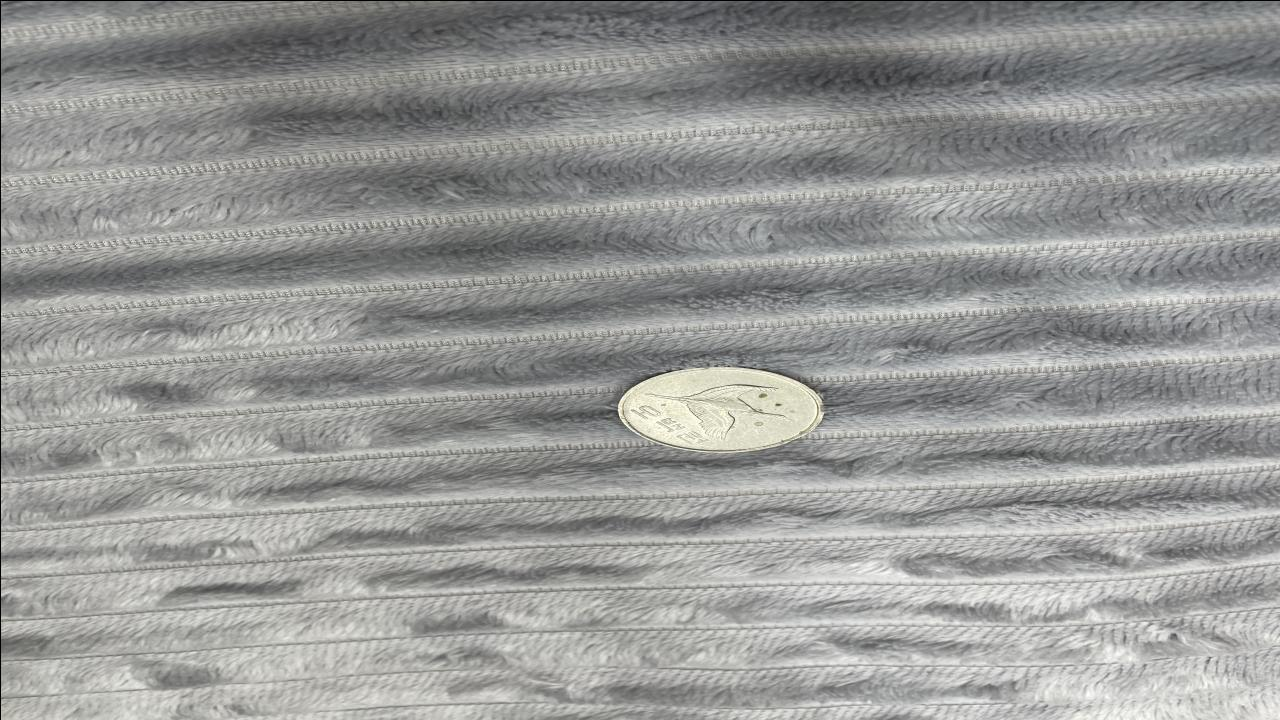coin: (612, 365, 828, 452)
